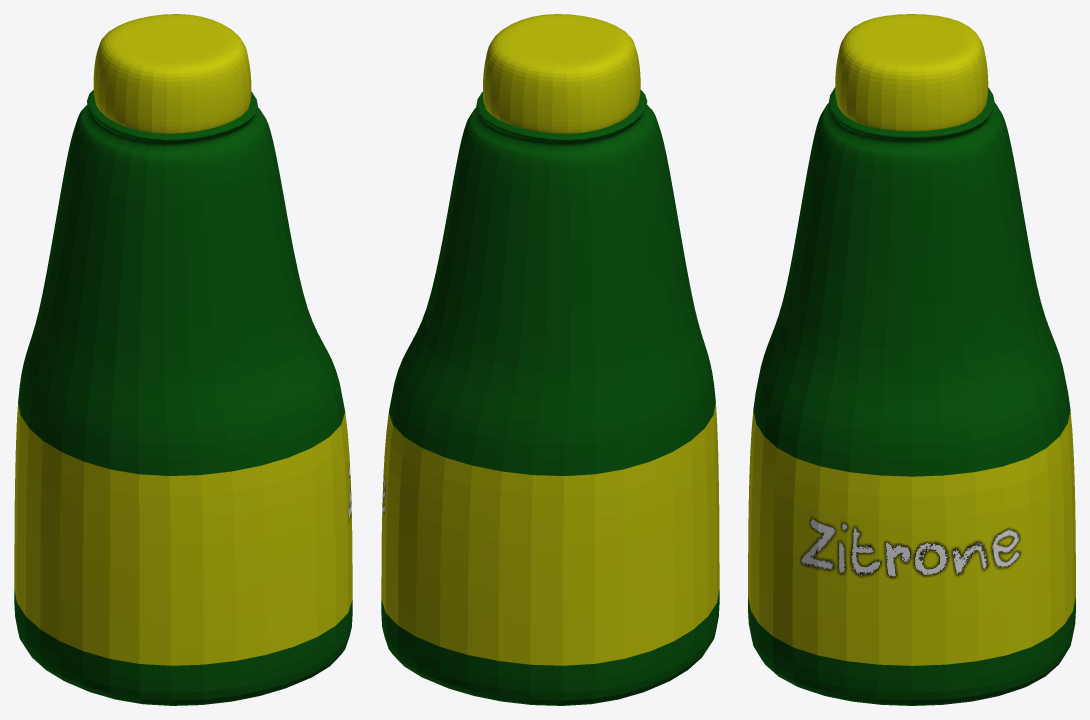
Rendered from Zitronensaft.fbx.
3 renders of one model, left to right at view 1: azimuth 30°, elevation 25°; view 2: azimuth 150°, elevation 25°; view 3: azimuth 270°, elevation 25°, orthographic.
Visible parts, largest first — view 1: Zitronensaft, Zitronensaft_open; view 2: Zitronensaft, Zitronensaft_open; view 3: Zitronensaft, Zitronensaft_open.
Boxes of the visible parts, <box> form: Zitronensaft: <box>14,14,352,705</box>; Zitronensaft_open: <box>89,91,255,137</box>; Zitronensaft: <box>381,14,719,705</box>; Zitronensaft_open: <box>478,90,645,137</box>; Zitronensaft: <box>748,14,1075,705</box>; Zitronensaft_open: <box>830,89,992,135</box>.
Size of the model in its own units: 135 by 274 by 135.
2 materials, 1 textured.
